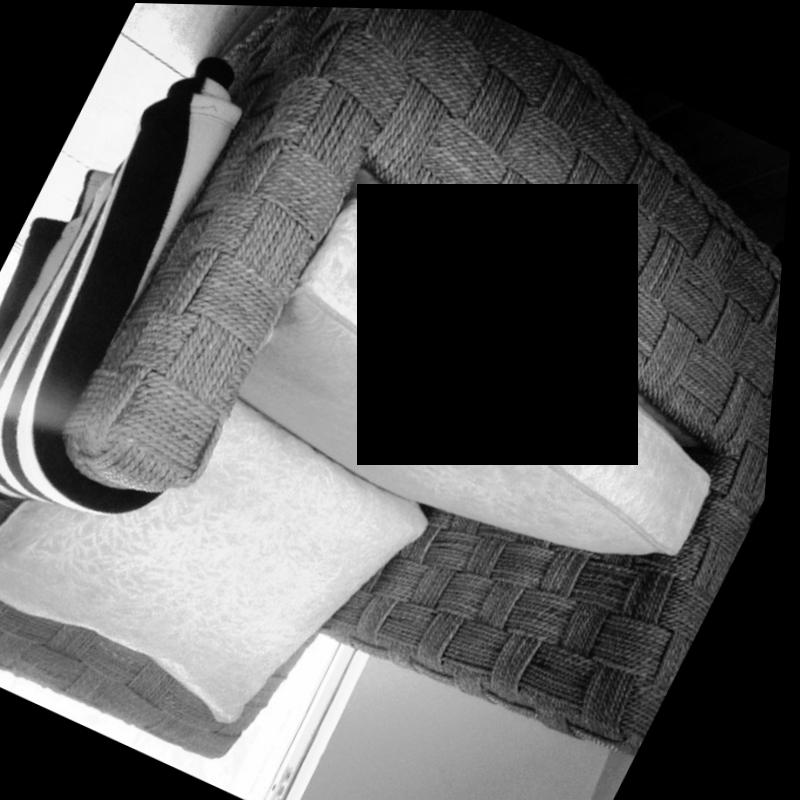pillow: (0, 319, 483, 792)
